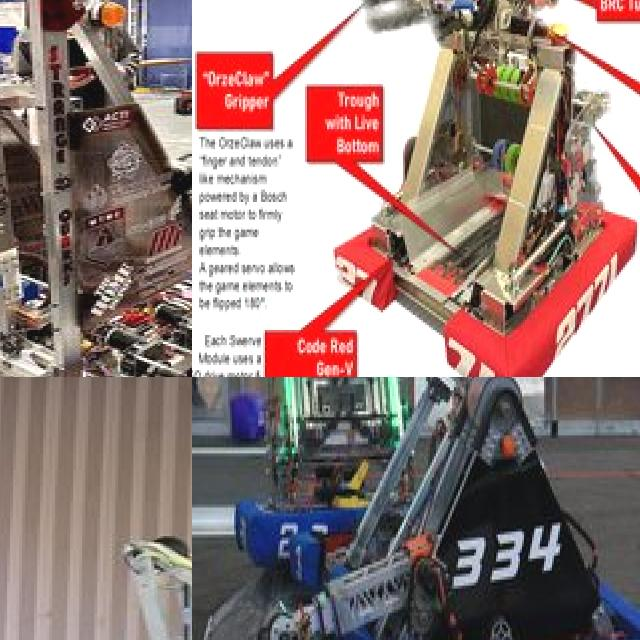FRC-Robots: (336, 0, 640, 377), (259, 377, 640, 640), (0, 0, 192, 377), (212, 377, 484, 572), (0, 522, 192, 640), (284, 508, 384, 588)
